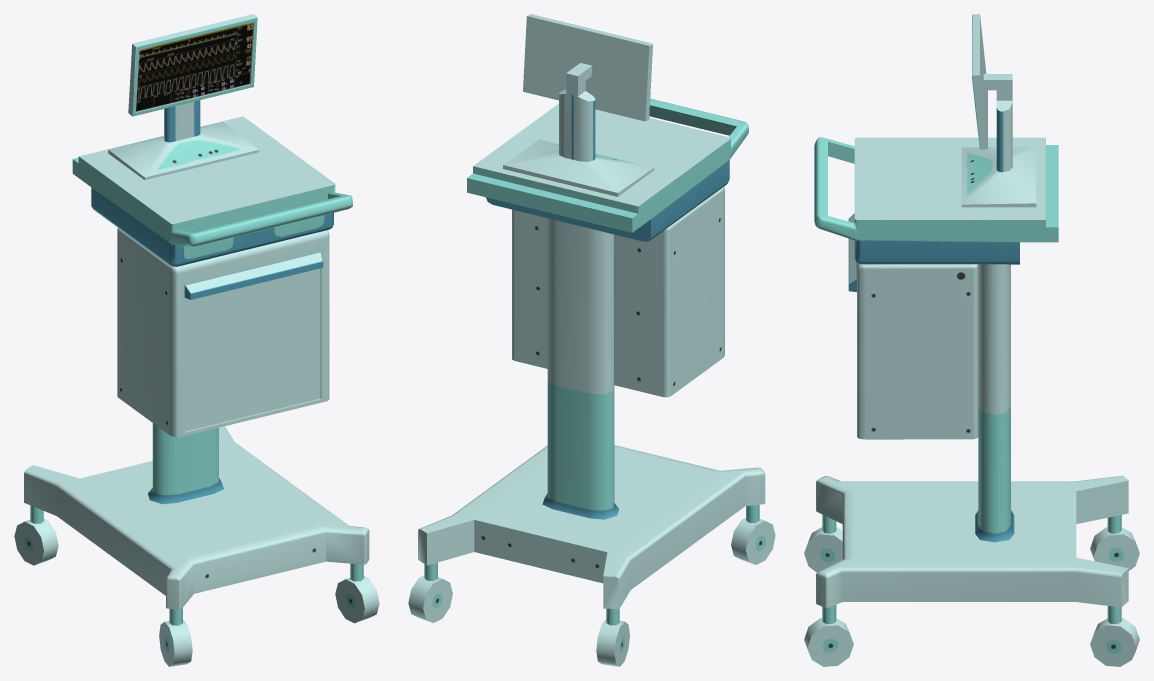
Rendered from computer_cart.glb.
3 views of the same model, side by side, from view 1: azimuth 30°, elevation 25°; view 2: azimuth 150°, elevation 25°; view 3: azimuth 270°, elevation 25° (orthographic). The views are drawn at different scales.
Parts seen in each view (by area): view 1: computer_cart; view 2: computer_cart; view 3: computer_cart.
Part boxes in pixels (bbox=[...]): computer_cart: bbox=[14, 14, 379, 666]; computer_cart: bbox=[408, 14, 775, 666]; computer_cart: bbox=[804, 14, 1139, 666].
Size of the model in its own units: 0.573 by 1.49 by 0.7922.
1 material, 1 textured.
